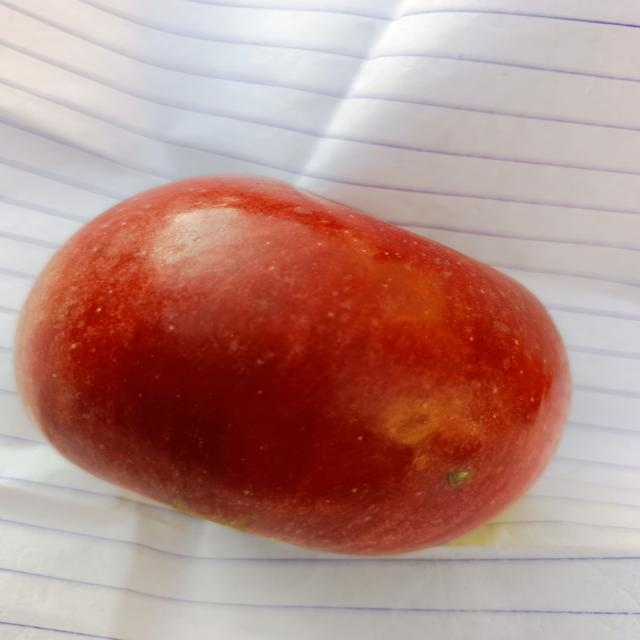Fresh Apple: (21, 168, 575, 550)
